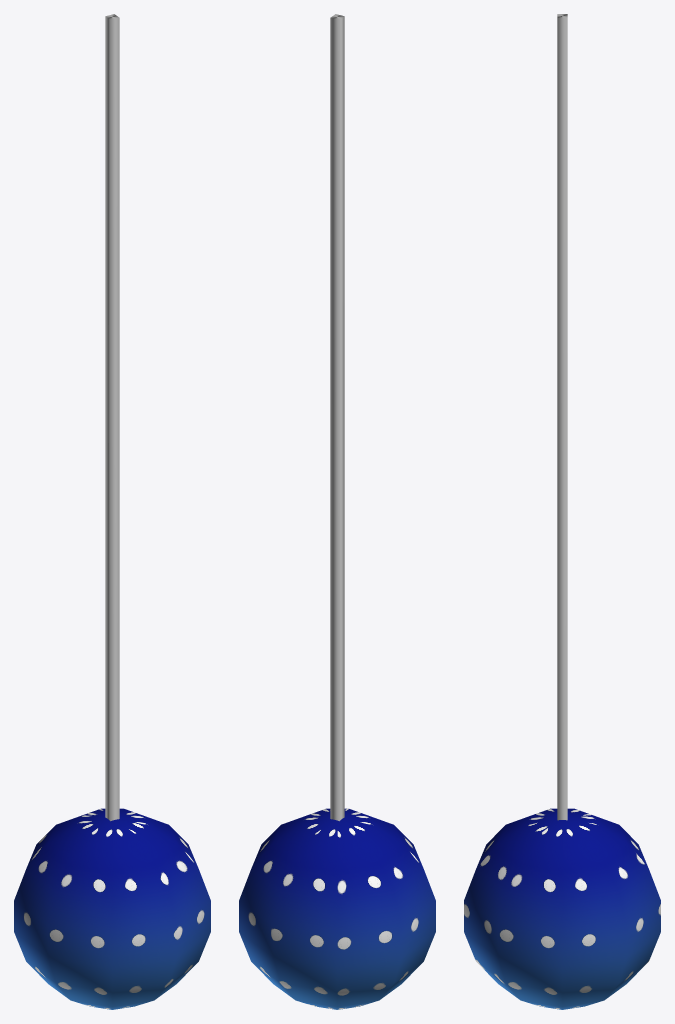
The model's file is BlueLightCFCDesk.fbx.
The picture shows the model from 3 angles, left to right: view 1: azimuth 30°, elevation 25°; view 2: azimuth 150°, elevation 25°; view 3: azimuth 270°, elevation 25°; orthographic projection.
Visible parts, largest first — view 1: light_thing, wire; view 2: light_thing, wire; view 3: light_thing, wire.
Boxes of the visible parts, x1,y1,x2,y2 form: light_thing: [14, 808, 210, 1009]; wire: [105, 14, 119, 821]; light_thing: [239, 808, 435, 1009]; wire: [330, 14, 344, 821]; light_thing: [464, 808, 660, 1009]; wire: [557, 14, 567, 820].
Size of the model in its own units: 1.91 by 10.7 by 1.94.
2 materials, 1 textured.
